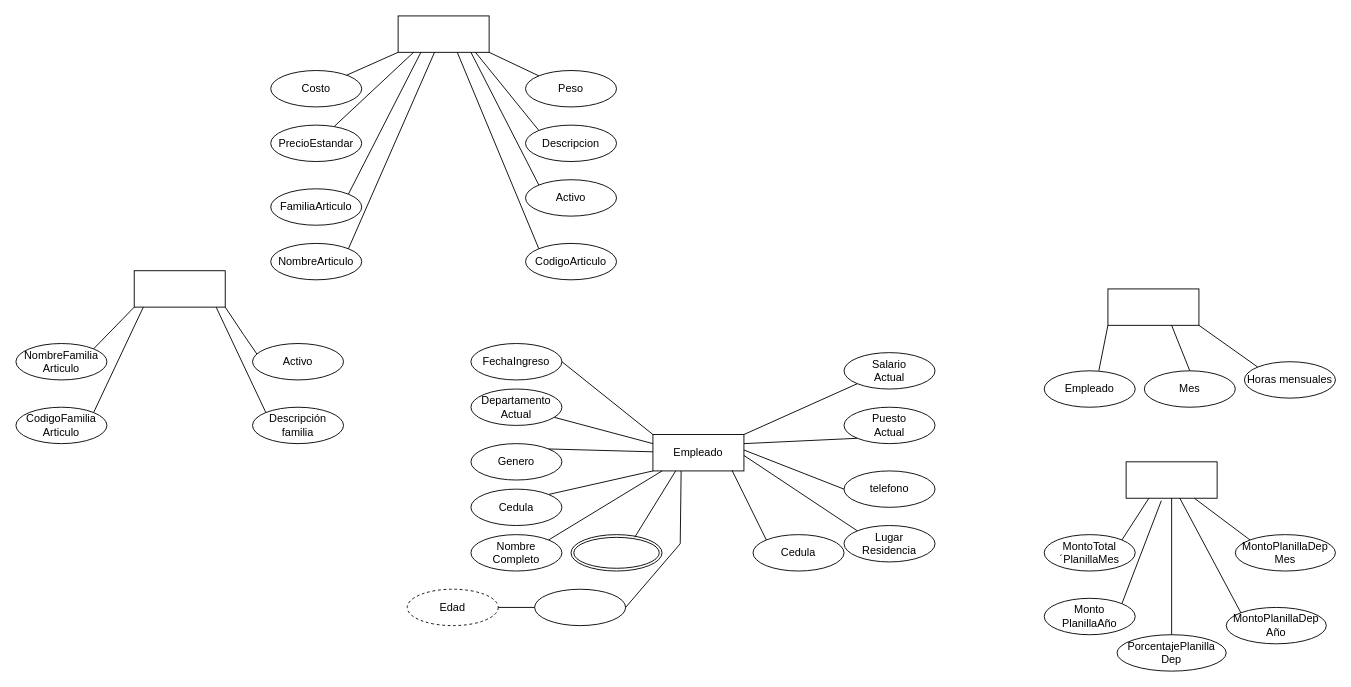
The diagram is 1351 pixels wide and 687 high, and some of its shapes have lost their labels. The box of each missing label's shape, as (x1, y1, x2, y2) in pixels:
Articulos: (397, 15, 489, 52)
Familas: (133, 270, 225, 307)
FechaNacimiento: (534, 588, 626, 626)
Historicos: (570, 534, 662, 571)
Registro Salarios: (1107, 288, 1199, 325)
Reportes: (1125, 461, 1217, 498)
